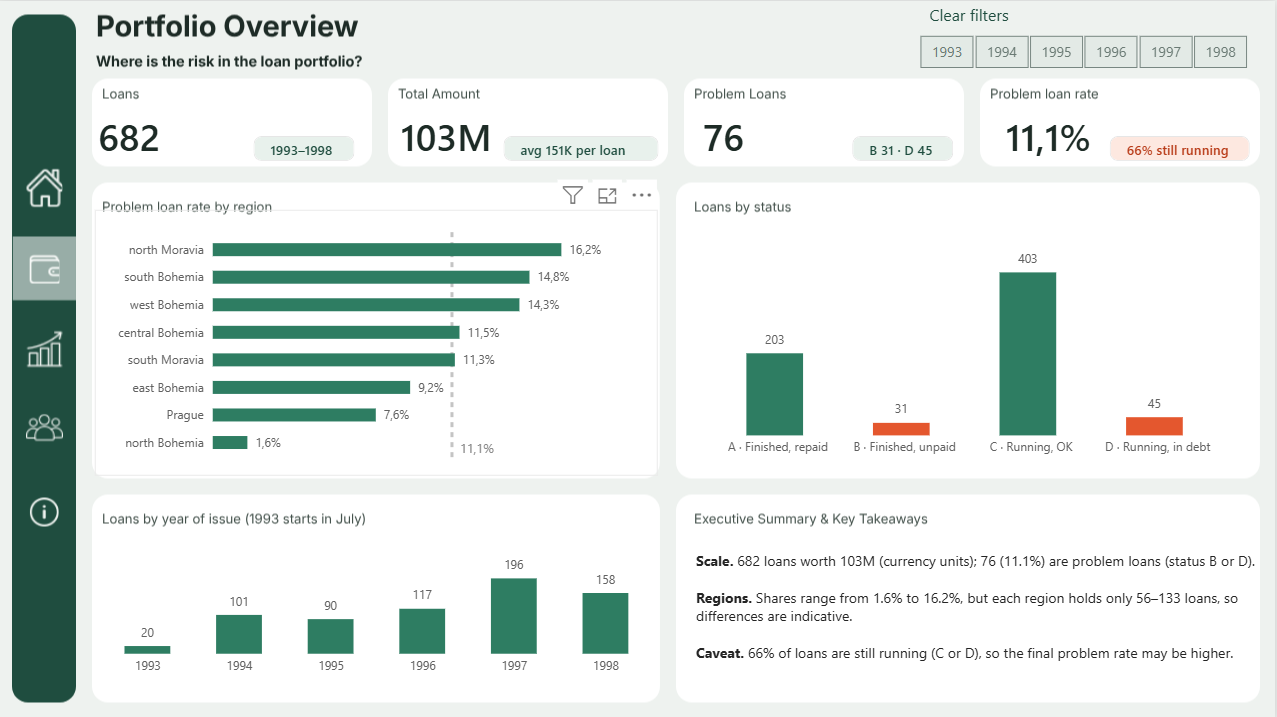

Layout of this report page (visuals, bound fields, positions):
{"tool":"powerbi","page":{"name":"Portfolio Overview","canvas":[1280,720],"ordinal":1},"visuals":[{"type":"cardVisual","fields":{"Data":["_Measures.Loans"]},"box":[86.2,110,260,50],"z":0},{"type":"cardVisual","fields":{"Data":["_Measures.Total Loan Amount"]},"box":[388.8,110,260,50],"z":1000},{"type":"cardVisual","fields":{"Data":["_Measures.Problem Loans"]},"box":[691.4,110,260,50],"z":2000},{"type":"cardVisual","fields":{"Data":["_Measures.Problem Loan %"]},"box":[994,110,260,50],"z":3000},{"type":"clusteredBarChart","fields":{"Category":["loan_analysis.region"],"Y":["_Measures.Problem Loan % (min 30 loans)"]},"box":[98.3,208.3,563.3,266.7],"z":4000},{"type":"columnChart","fields":{"Category":["loan_analysis.Status Label"],"Y":["_Measures.Loans"]},"box":[683.8,208.8,576.2,266.2],"z":5000},{"type":"clusteredColumnChart","fields":{"Category":["loan_analysis.loan_year"],"Y":["_Measures.Loans"]},"box":[98.3,530,563.3,163.3],"z":6000},{"type":"textbox","box":[700,550,560,140],"z":7000},{"type":"slicer","fields":{"Values":["loan_analysis.loan_year"]},"box":[903.8,32.5,366.2,36.2],"z":8000},{"type":"cardVisual","fields":{"Data":["_MeasuresCard.Chip Years"]},"box":[257.5,135,101.2,25],"z":9000},{"type":"cardVisual","fields":{"Data":["_MeasuresCard.Chip Avg Loan"]},"box":[507.5,135,155,25],"z":10000},{"type":"cardVisual","fields":{"Data":["_MeasuresCard.Chip B D"]},"box":[856.2,135,101.2,25],"z":11000},{"type":"cardVisual","fields":{"Data":["_MeasuresCard.Chip Running"]},"box":[1113.8,135,140,25],"z":12000},{"type":"actionButton","box":[15,321.2,66.2,60],"z":13000},{"type":"actionButton","box":[20,400,56.2,55],"z":14000},{"type":"actionButton","box":[22.5,482.5,52.5,57.5],"z":15000},{"type":"actionButton","box":[20,160,53.8,55],"z":16000},{"type":"actionButton","title":"Clear filters","box":[923.8,2.5,98.8,30],"z":17000}]}

Visuals, with their boxes on the page's 1280x720 design canvas (x1, y1, x2, y2). These are canvas units, not pixel positions in the 1277x717 screenshot, which may show the page scaled, cropped or inside an application window:
cardVisual - _Measures.Loans: {"left": 86, "top": 110, "right": 346, "bottom": 160}
cardVisual - _Measures.Total Loan Amount: {"left": 389, "top": 110, "right": 649, "bottom": 160}
cardVisual - _Measures.Problem Loans: {"left": 691, "top": 110, "right": 951, "bottom": 160}
cardVisual - _Measures.Problem Loan %: {"left": 994, "top": 110, "right": 1254, "bottom": 160}
clusteredBarChart - loan_analysis.region x _Measures.Problem Loan % (min 30 loans): {"left": 98, "top": 208, "right": 662, "bottom": 475}
columnChart - loan_analysis.Status Label x _Measures.Loans: {"left": 684, "top": 209, "right": 1260, "bottom": 475}
clusteredColumnChart - loan_analysis.loan_year x _Measures.Loans: {"left": 98, "top": 530, "right": 662, "bottom": 693}
textbox: {"left": 700, "top": 550, "right": 1260, "bottom": 690}
slicer - loan_analysis.loan_year: {"left": 904, "top": 32, "right": 1270, "bottom": 69}
cardVisual - _MeasuresCard.Chip Years: {"left": 258, "top": 135, "right": 359, "bottom": 160}
cardVisual - _MeasuresCard.Chip Avg Loan: {"left": 508, "top": 135, "right": 662, "bottom": 160}
cardVisual - _MeasuresCard.Chip B D: {"left": 856, "top": 135, "right": 957, "bottom": 160}
cardVisual - _MeasuresCard.Chip Running: {"left": 1114, "top": 135, "right": 1254, "bottom": 160}
actionButton: {"left": 15, "top": 321, "right": 81, "bottom": 381}
actionButton: {"left": 20, "top": 400, "right": 76, "bottom": 455}
actionButton: {"left": 22, "top": 482, "right": 75, "bottom": 540}
actionButton: {"left": 20, "top": 160, "right": 74, "bottom": 215}
"Clear filters" actionButton: {"left": 924, "top": 2, "right": 1023, "bottom": 32}
